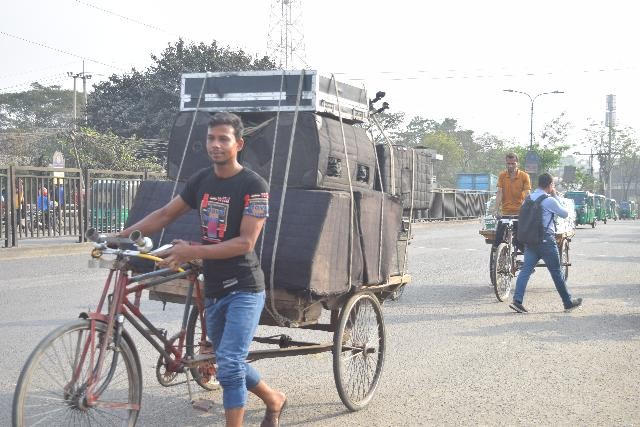truck: (452, 171, 498, 197)
